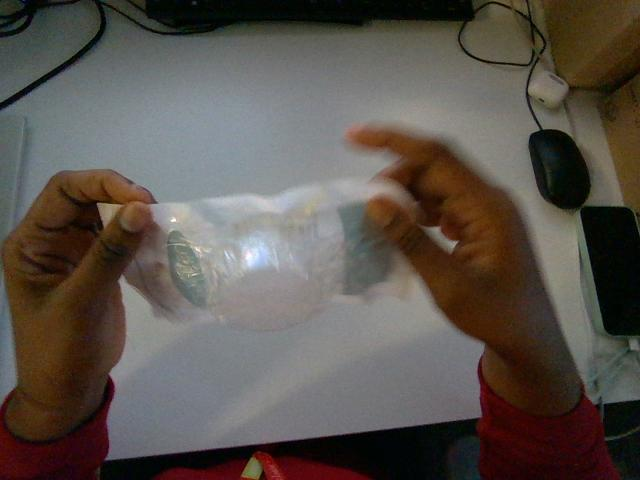gallipot: (125, 179, 411, 330)
